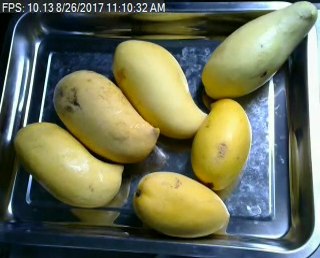Mango: (201, 2, 319, 102), (52, 67, 159, 168), (109, 35, 210, 139), (11, 118, 127, 208), (130, 169, 233, 238), (192, 99, 253, 191)
